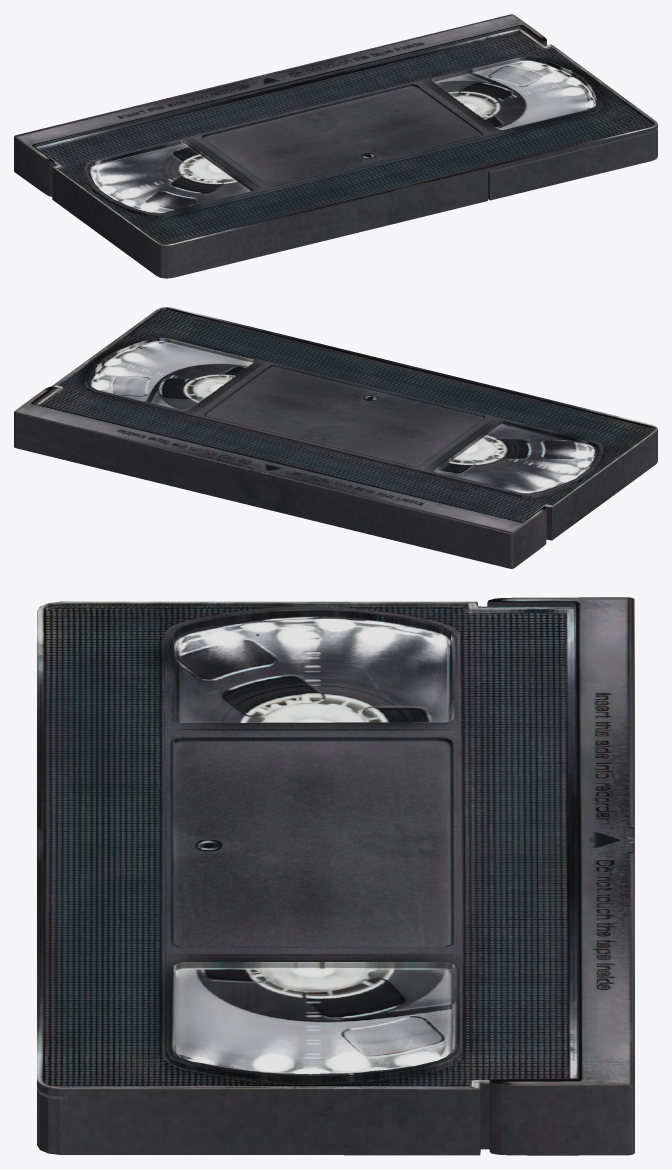
File: VHSTape.fbx
3 views of the same model, one above another, from view 1: azimuth 30°, elevation 25°; view 2: azimuth 150°, elevation 25°; view 3: azimuth 270°, elevation 25° (orthographic). The views are drawn at different scales.
Visible parts, largest first — view 1: VHSTape; view 2: VHSTape; view 3: VHSTape.
Part boxes in pixels (box(x1,y1,x2,y2)): VHSTape: box(14, 14, 657, 278); VHSTape: box(14, 307, 657, 568); VHSTape: box(37, 597, 634, 1155).
Size of the model in its own units: 32.62 by 2.19 by 16.89.
